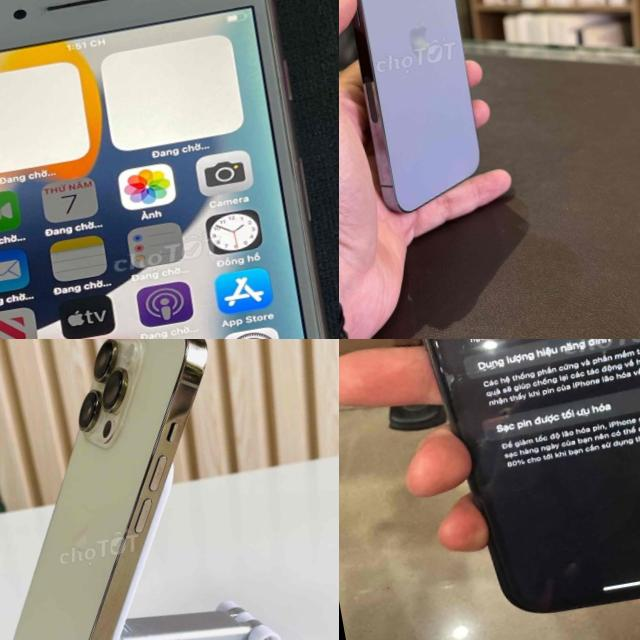gen_11: (370, 339, 640, 638)
gen_12_13: (339, 0, 497, 214)
gen_14: (12, 339, 206, 640)
gen_7_8: (0, 0, 339, 339)
